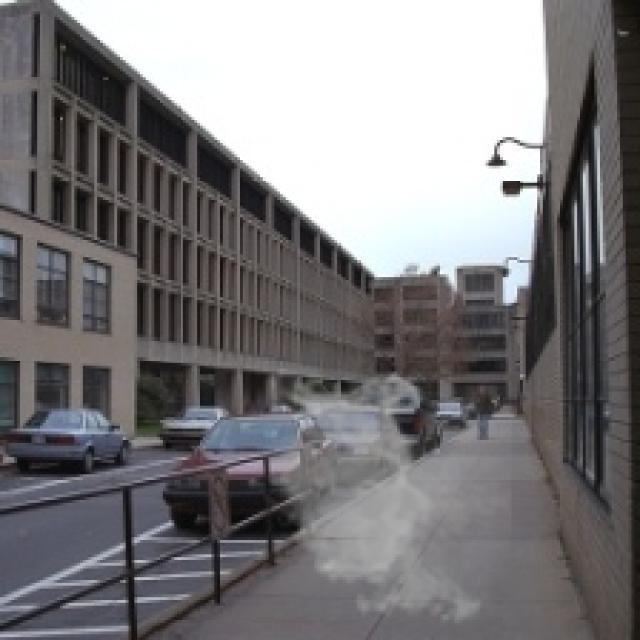Smoke: (257, 368, 512, 632)
